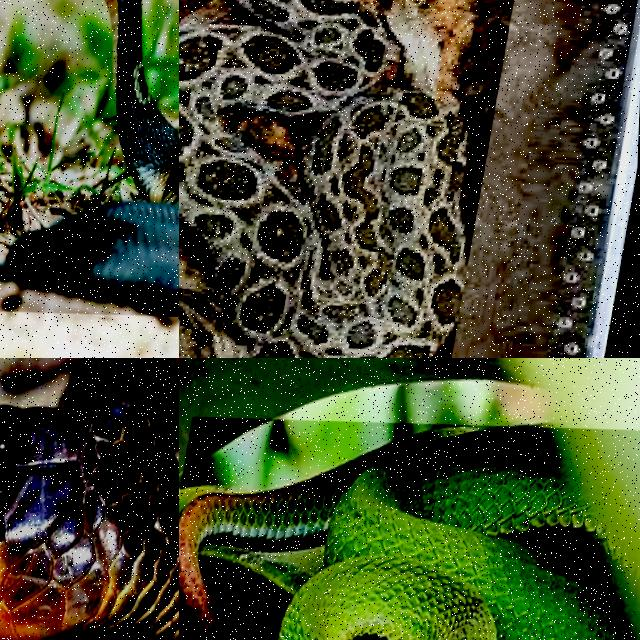Daboia siamensis: (179, 0, 466, 357)
Naja kaouthia: (0, 0, 178, 315), (0, 358, 178, 639)
Trimeresurus macrops: (179, 427, 632, 639)
